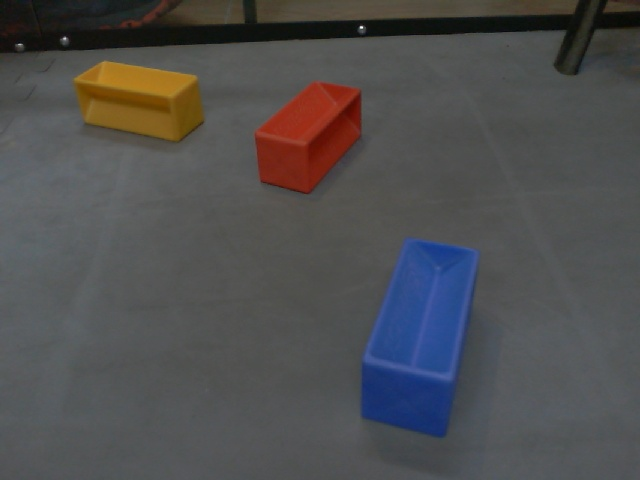BlueSample: (357, 234, 481, 442)
RedSample: (255, 78, 362, 193)
YellowSample: (72, 59, 206, 144)
